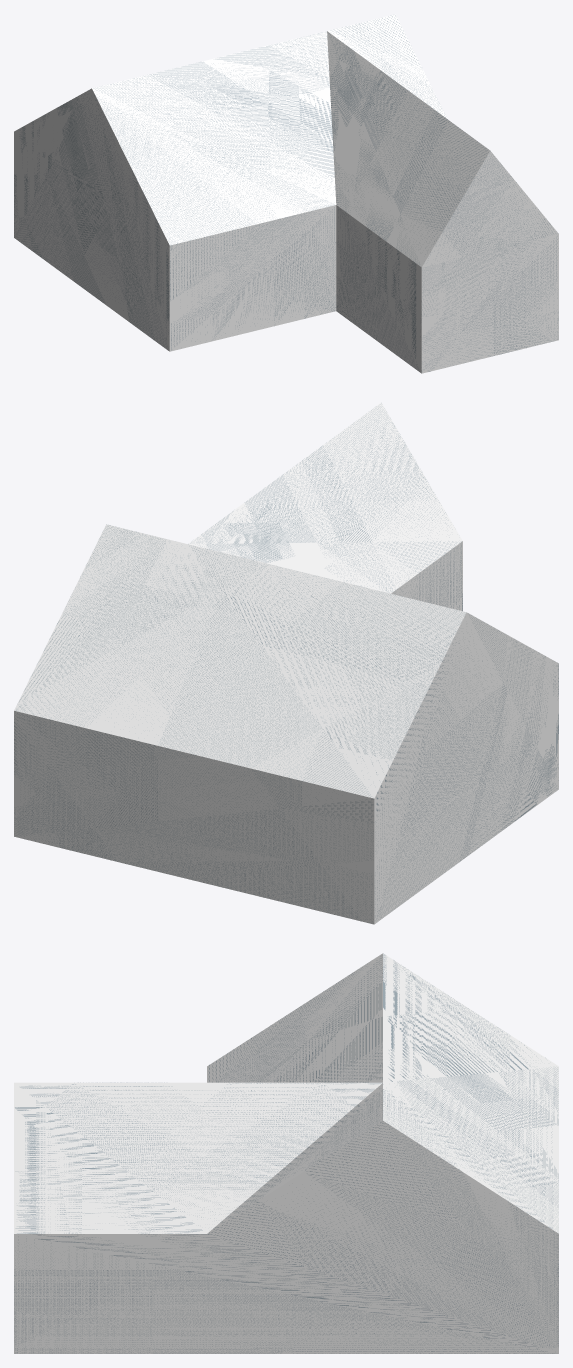
File: haus02.obj
3 views of the same model, one above another, from view 1: azimuth 30°, elevation 25°; view 2: azimuth 150°, elevation 25°; view 3: azimuth 270°, elevation 25° (orthographic). The views are drawn at different scales.
Parts seen in each view (by area): view 1: SketchUp_ID2.004; view 2: SketchUp_ID2.004; view 3: SketchUp_ID2.004.
Boxes of the visible parts, left/top/right/bottom form: SketchUp_ID2.004: left=14, top=14, right=558, bottom=373; SketchUp_ID2.004: left=14, top=402, right=558, bottom=924; SketchUp_ID2.004: left=14, top=953, right=558, bottom=1353.
Bounding box in the file's own units: 9.01 × 5.85 × 12.39.
